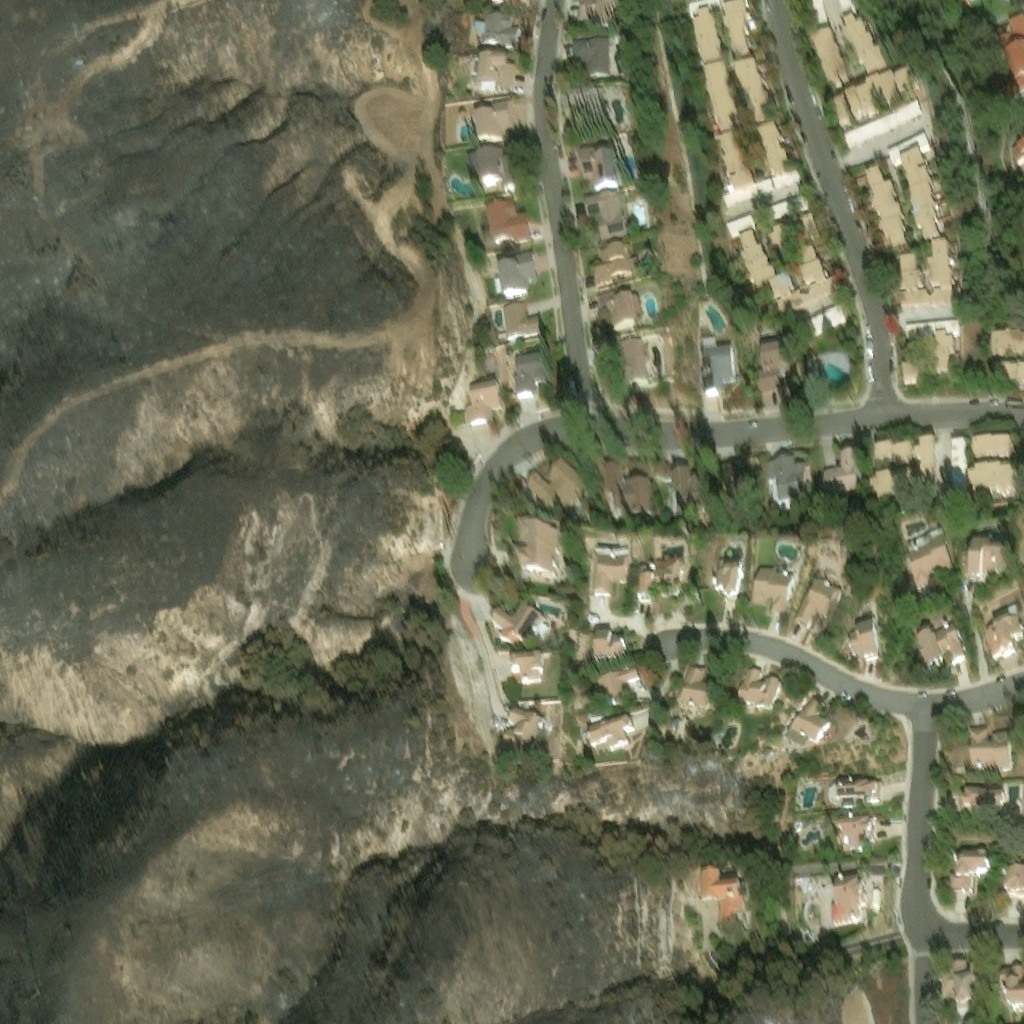0 no-damage: (763, 212, 841, 317), (884, 129, 942, 244), (895, 243, 964, 314), (861, 160, 909, 252), (841, 97, 921, 141), (844, 73, 915, 119), (902, 335, 962, 388), (522, 448, 582, 501), (904, 526, 955, 587), (968, 707, 1018, 765), (699, 870, 748, 927), (781, 689, 830, 745), (487, 590, 545, 637), (736, 227, 776, 291), (746, 553, 793, 603), (478, 108, 531, 152), (995, 5, 1023, 88), (704, 66, 741, 126), (912, 622, 965, 663), (585, 198, 629, 247), (715, 126, 752, 184), (847, 25, 889, 76), (734, 657, 778, 705), (501, 705, 544, 754), (938, 959, 977, 1013), (735, 65, 773, 120), (792, 566, 839, 609), (510, 510, 554, 555), (593, 251, 642, 291), (470, 160, 520, 198), (593, 653, 635, 698), (580, 6, 626, 47), (586, 713, 633, 752), (693, 15, 727, 68), (474, 17, 520, 56), (608, 343, 647, 389), (984, 610, 1023, 656), (598, 297, 645, 335), (672, 656, 710, 703), (969, 469, 1017, 506), (761, 444, 804, 485), (598, 445, 642, 485), (497, 249, 536, 294), (819, 445, 858, 490), (630, 538, 675, 576), (585, 521, 620, 569), (968, 544, 1011, 583), (580, 159, 624, 197), (949, 853, 987, 897), (488, 203, 530, 242), (576, 55, 616, 95), (479, 61, 517, 103), (464, 383, 501, 426), (701, 335, 734, 383), (755, 118, 786, 169), (502, 298, 542, 337), (571, 104, 615, 139), (724, 8, 753, 61), (809, 37, 842, 83), (720, 172, 772, 201), (515, 353, 548, 398), (661, 445, 698, 485), (834, 780, 881, 810), (837, 821, 875, 858), (831, 881, 866, 921), (709, 540, 739, 584), (959, 782, 1001, 813), (753, 344, 783, 386), (866, 469, 913, 495), (907, 326, 962, 348), (846, 618, 877, 656), (998, 969, 1023, 1014), (589, 611, 620, 646), (769, 189, 810, 215), (973, 439, 1014, 463), (952, 442, 967, 504), (915, 442, 937, 482), (509, 647, 540, 675), (874, 442, 913, 464), (991, 329, 1023, 355), (831, 88, 852, 124), (1007, 127, 1023, 174), (810, 0, 832, 34), (998, 364, 1023, 392), (769, 161, 799, 184), (1003, 865, 1023, 897), (725, 209, 753, 231), (840, 0, 862, 25), (487, 0, 527, 12), (712, 444, 738, 461)
